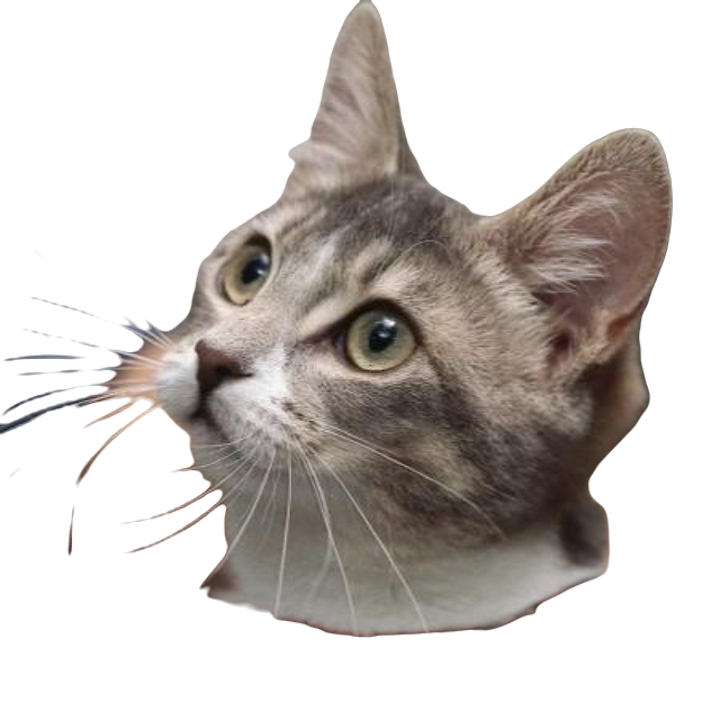Cat: (1, 0, 674, 629)
